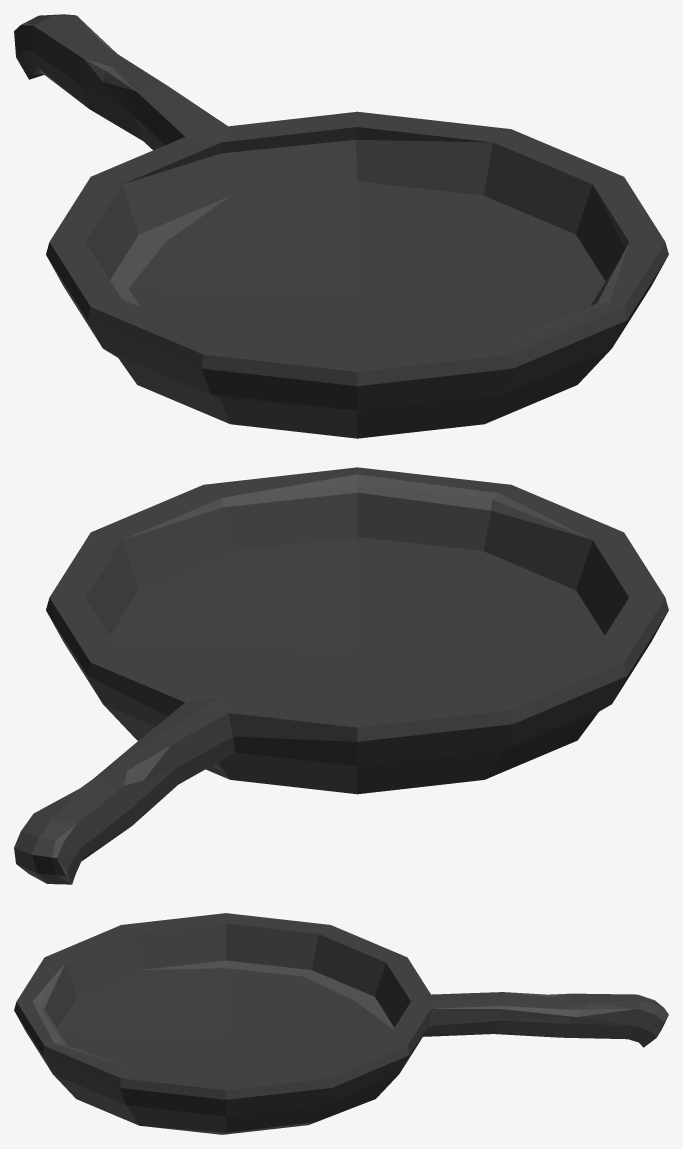
The model's file is mesh_pan.fbx.
3 views of the same model, one above another, from view 1: azimuth 30°, elevation 25°; view 2: azimuth 150°, elevation 25°; view 3: azimuth 270°, elevation 25° (orthographic). The views are drawn at different scales.
Visible parts, largest first — view 1: mesh_pan; view 2: mesh_pan; view 3: mesh_pan.
Part boxes in pixels (bbox=[...]): mesh_pan: bbox=[14, 14, 668, 438]; mesh_pan: bbox=[14, 467, 668, 884]; mesh_pan: bbox=[14, 913, 668, 1134].
Size of the model in its own units: 0.4878 by 0.0843 by 0.7534.
